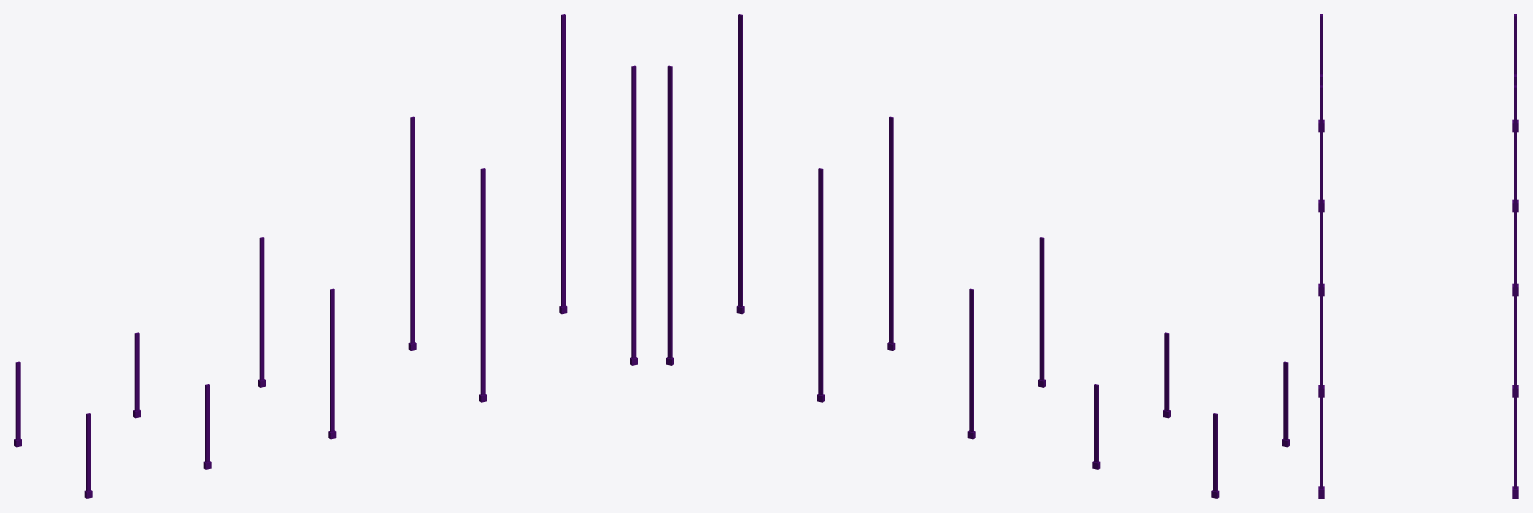
File: StairLeg.fbx
3 renders of one model, left to right at view 1: azimuth 30°, elevation 25°; view 2: azimuth 150°, elevation 25°; view 3: azimuth 270°, elevation 25°, orthographic. The views are drawn at different scales.
Visible parts, largest first — view 1: StairLeg; view 2: StairLeg; view 3: StairLeg.
Boxes of the visible parts, x1,y1,x2,y2 form: StairLeg: (14,14,637,498); StairLeg: (666,14,1289,498); StairLeg: (1318,14,1518,498).
Bounding box in the file's own units: 548 × 283 × 125.
